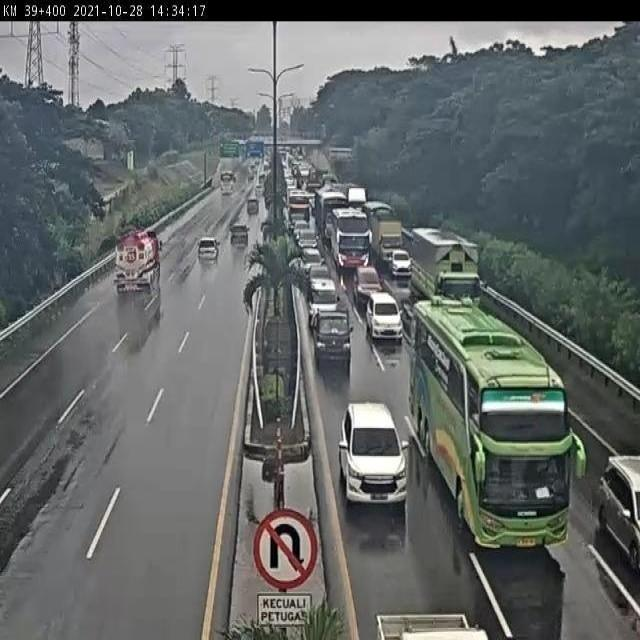Bus: (331, 206, 374, 269), (219, 171, 236, 197)
Car: (339, 400, 409, 504), (597, 458, 640, 579), (364, 291, 404, 343), (306, 276, 339, 329), (355, 264, 383, 306), (303, 262, 332, 300), (286, 189, 312, 224), (300, 247, 326, 277), (388, 249, 412, 280), (295, 229, 320, 257), (228, 223, 250, 247), (198, 237, 220, 260), (290, 220, 310, 240), (247, 194, 259, 215), (249, 161, 257, 176), (255, 184, 262, 198)
Truck: (408, 296, 589, 549), (408, 225, 488, 310), (113, 228, 163, 294), (311, 308, 353, 367), (313, 188, 350, 242), (372, 213, 404, 264), (362, 200, 396, 235), (344, 186, 371, 206)
